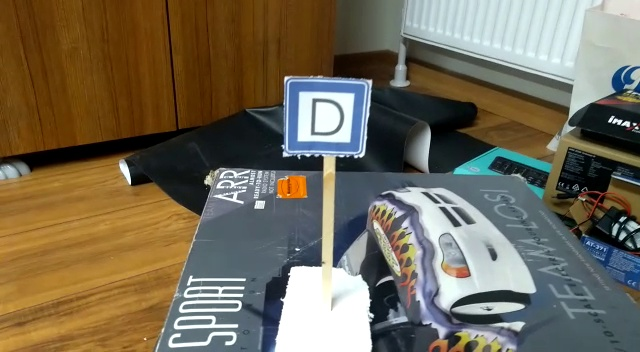durak: (278, 71, 374, 162)
